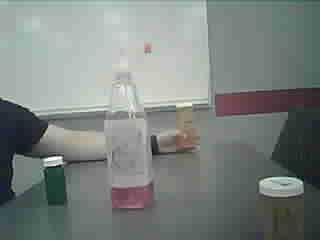Bottle A: (174, 96, 203, 157)
Bottle B: (256, 173, 308, 240)
Bottle C: (42, 155, 71, 210)
hazard: (102, 41, 159, 220)
